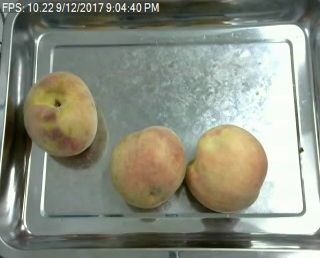Peach: (185, 123, 268, 213), (22, 69, 98, 156), (109, 126, 185, 207)
